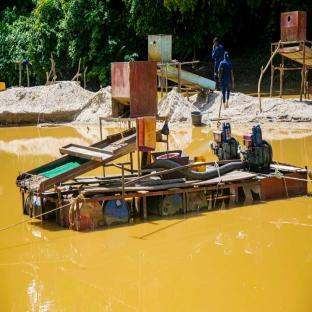ProcessingEquipment: (22, 154, 312, 217), (254, 0, 312, 103), (142, 32, 218, 106), (238, 127, 280, 176), (207, 116, 241, 168)
